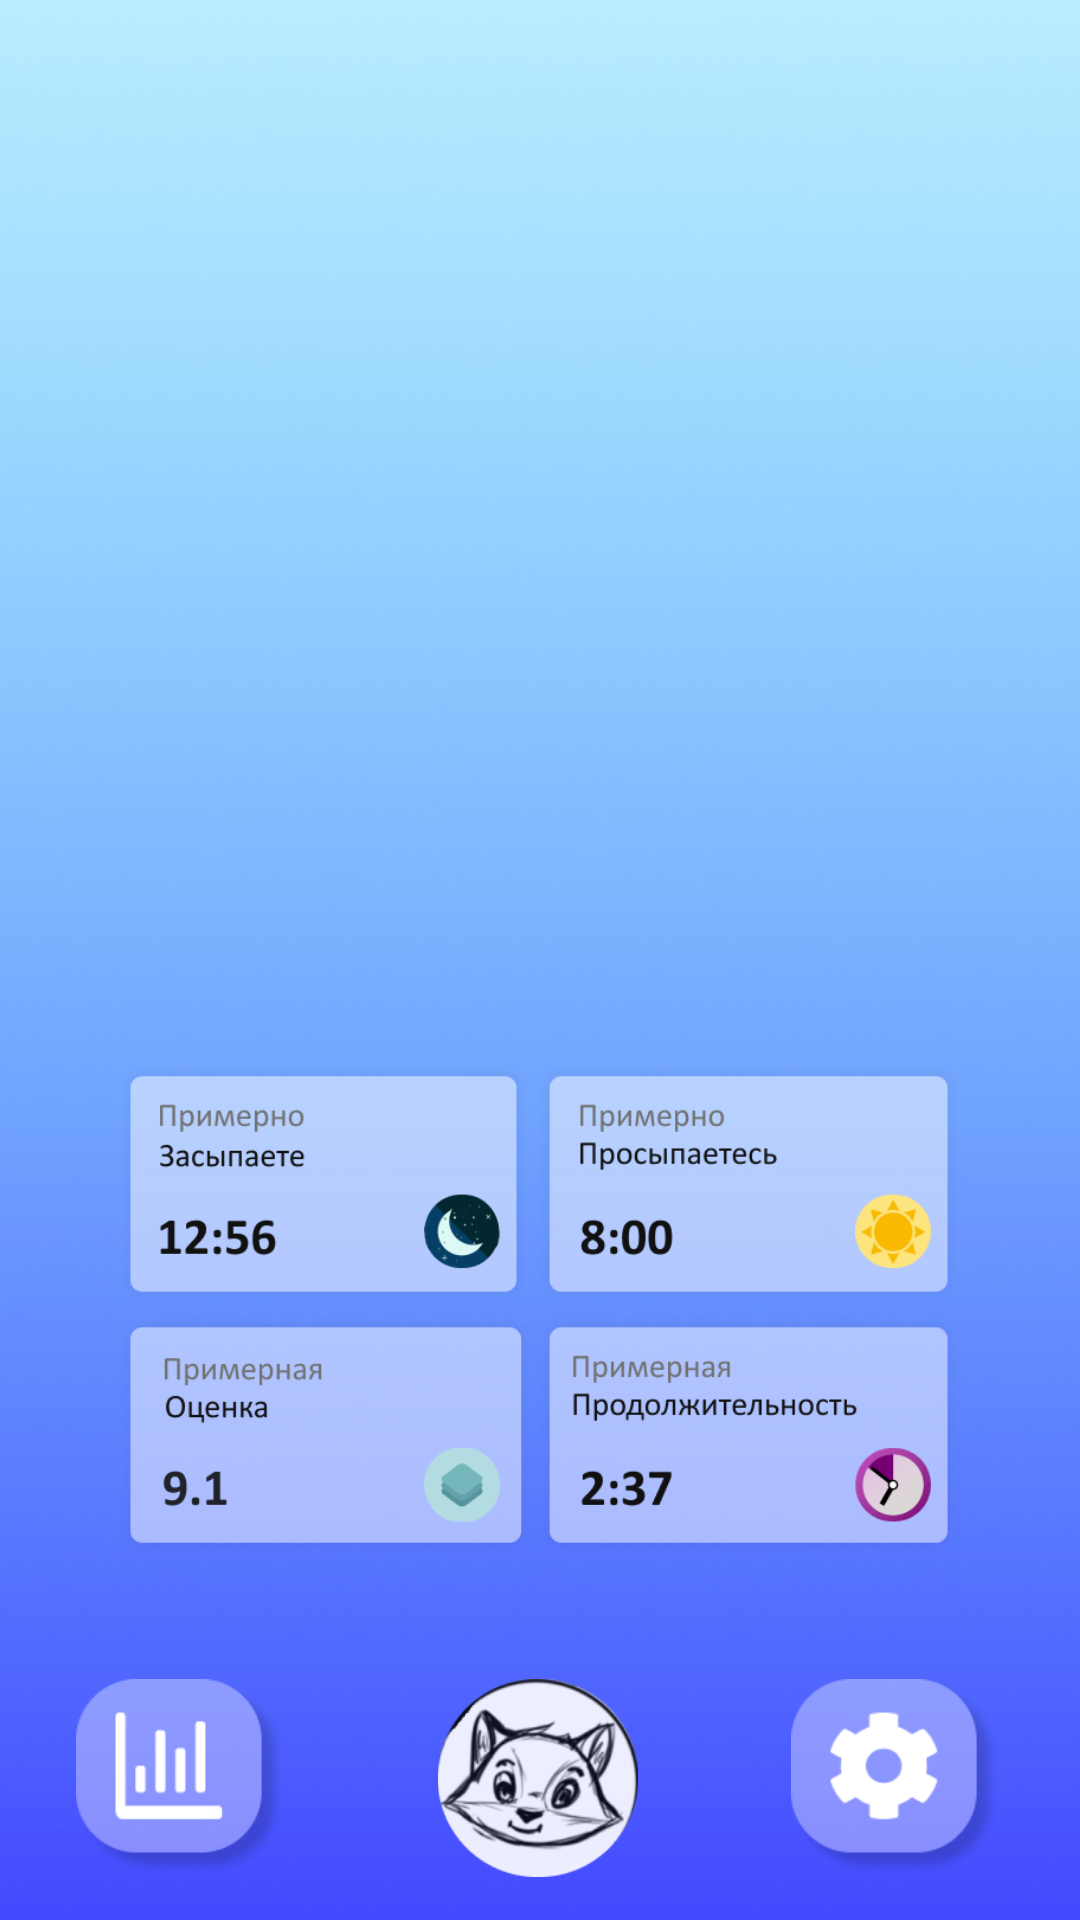

Where icons sit on this 1080px x 1920px app screen, as (x1, y1, x2, y2):
grafs: (76, 1679, 286, 1864)
maskot: (438, 1679, 638, 1877)
opthions: (791, 1679, 1001, 1864)
